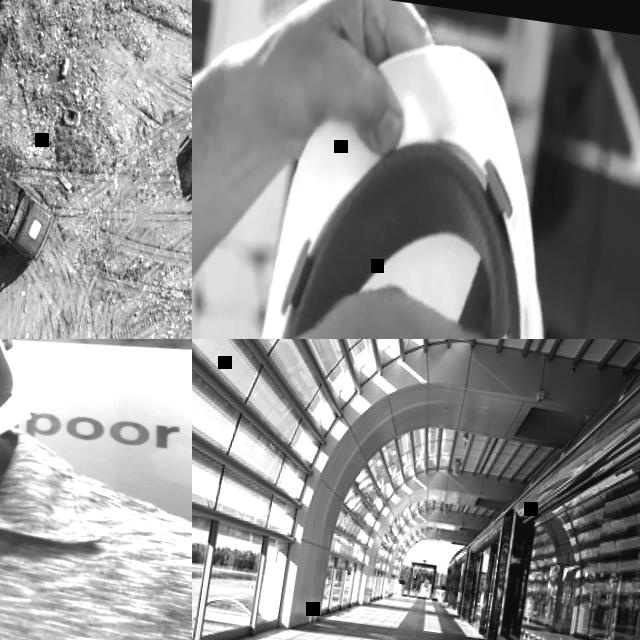Hardhat: (224, 23, 594, 339)
NO-Safety Vest: (0, 400, 192, 640)
Person: (192, 0, 553, 339), (0, 339, 192, 640)
machinery: (0, 131, 66, 270)
